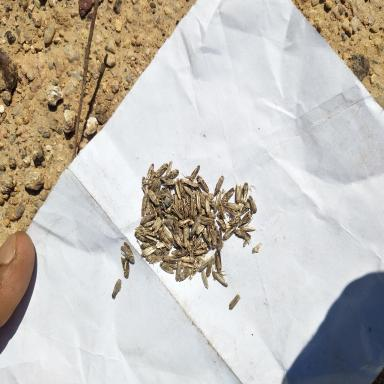pbw: (120, 241, 135, 264), (232, 201, 251, 218), (237, 210, 254, 228), (196, 174, 210, 194), (134, 231, 157, 243), (188, 260, 201, 281), (219, 203, 235, 219), (198, 255, 213, 272), (172, 217, 183, 239), (178, 266, 193, 282), (212, 271, 228, 286), (189, 216, 201, 236), (120, 256, 130, 279), (221, 186, 235, 202), (222, 224, 236, 240), (225, 216, 241, 230), (158, 232, 171, 249), (214, 175, 225, 195), (111, 279, 122, 299), (216, 211, 227, 231), (207, 219, 216, 243), (140, 212, 156, 225), (229, 293, 241, 310), (188, 164, 200, 181), (145, 254, 162, 266), (202, 228, 212, 248), (214, 249, 223, 271), (213, 190, 222, 212), (176, 177, 185, 199), (140, 245, 156, 257), (235, 229, 251, 241), (177, 216, 193, 228), (184, 192, 192, 216), (148, 189, 160, 205), (240, 182, 249, 203), (155, 163, 168, 177), (152, 215, 162, 233), (172, 203, 183, 219), (162, 224, 172, 241), (190, 237, 202, 251), (141, 193, 148, 217), (215, 227, 222, 251), (140, 240, 161, 248), (201, 270, 210, 288), (170, 248, 188, 257), (147, 170, 156, 188), (183, 186, 196, 198), (175, 260, 182, 282), (248, 195, 257, 212), (135, 225, 154, 233), (201, 210, 216, 220), (200, 216, 215, 226), (165, 160, 172, 181), (150, 201, 158, 219), (154, 204, 164, 218), (149, 178, 159, 192), (166, 168, 180, 178), (198, 188, 205, 208), (174, 231, 182, 248), (154, 179, 163, 194), (204, 194, 210, 216), (236, 182, 242, 204), (146, 164, 154, 180), (160, 177, 174, 186), (182, 260, 196, 269), (227, 202, 241, 211), (182, 198, 188, 218), (252, 242, 262, 254), (193, 248, 210, 255), (180, 256, 196, 263), (142, 230, 158, 237), (212, 226, 217, 248), (175, 181, 181, 199), (162, 206, 174, 215), (145, 194, 150, 215), (178, 198, 184, 215), (239, 225, 256, 231), (206, 260, 212, 277), (156, 241, 166, 251), (155, 192, 171, 198), (143, 220, 155, 228), (196, 189, 200, 212), (193, 198, 197, 221), (186, 238, 192, 253), (184, 226, 188, 248), (153, 250, 170, 255), (165, 185, 172, 197), (174, 194, 179, 210), (164, 262, 177, 268), (197, 242, 208, 249), (190, 195, 193, 218), (142, 176, 146, 192), (180, 178, 188, 186), (172, 240, 179, 248), (149, 227, 163, 231)
